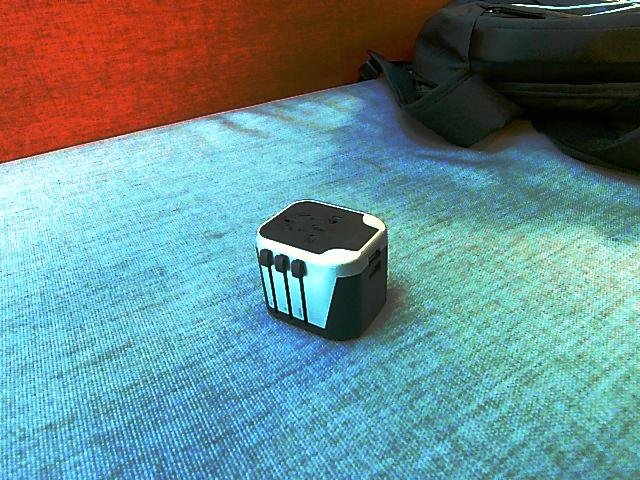adapter: (254, 198, 388, 342)
